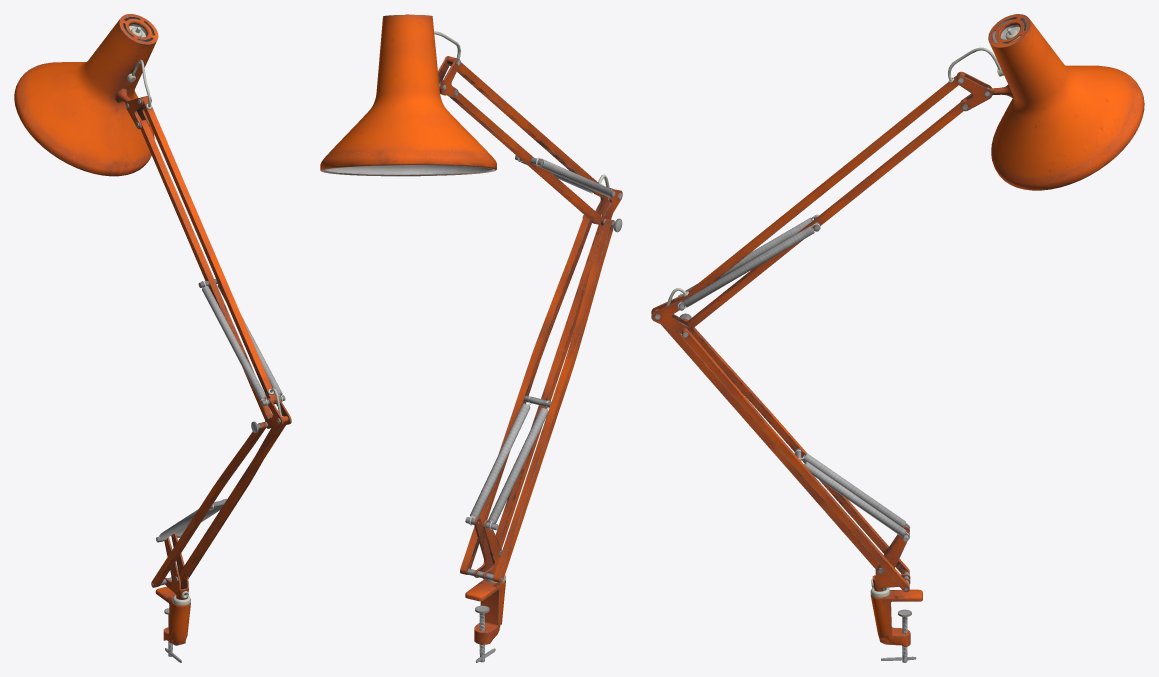
Rendered from records-lamp.glb.
The picture shows the model from 3 angles, left to right: view 1: azimuth 30°, elevation 25°; view 2: azimuth 150°, elevation 25°; view 3: azimuth 270°, elevation 25°; orthographic projection. The views are drawn at different scales.
Visible parts, largest first — view 1: desk_lamp_arm_01; view 2: desk_lamp_arm_01; view 3: desk_lamp_arm_01.
Boxes of the visible parts, x1=… form: desk_lamp_arm_01: x1=14, y1=14, x2=291, y2=662; desk_lamp_arm_01: x1=320, y1=14, x2=622, y2=662; desk_lamp_arm_01: x1=651, y1=14, x2=1144, y2=662.
Size of the model in its own units: 0.2017 by 0.8926 by 0.6139.
2 materials, 2 textured.
